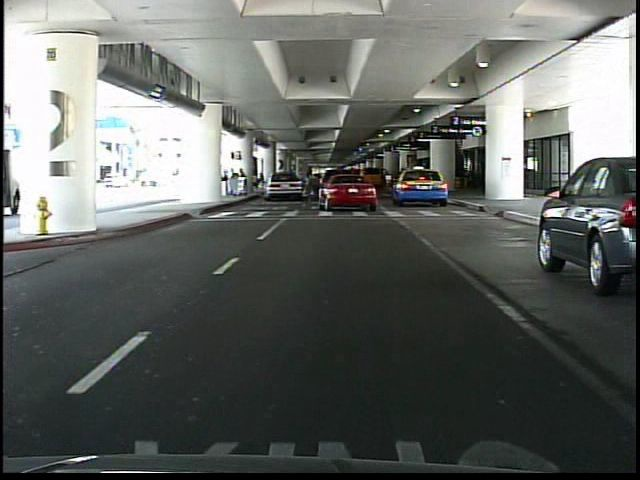person: (304, 165, 317, 200)
